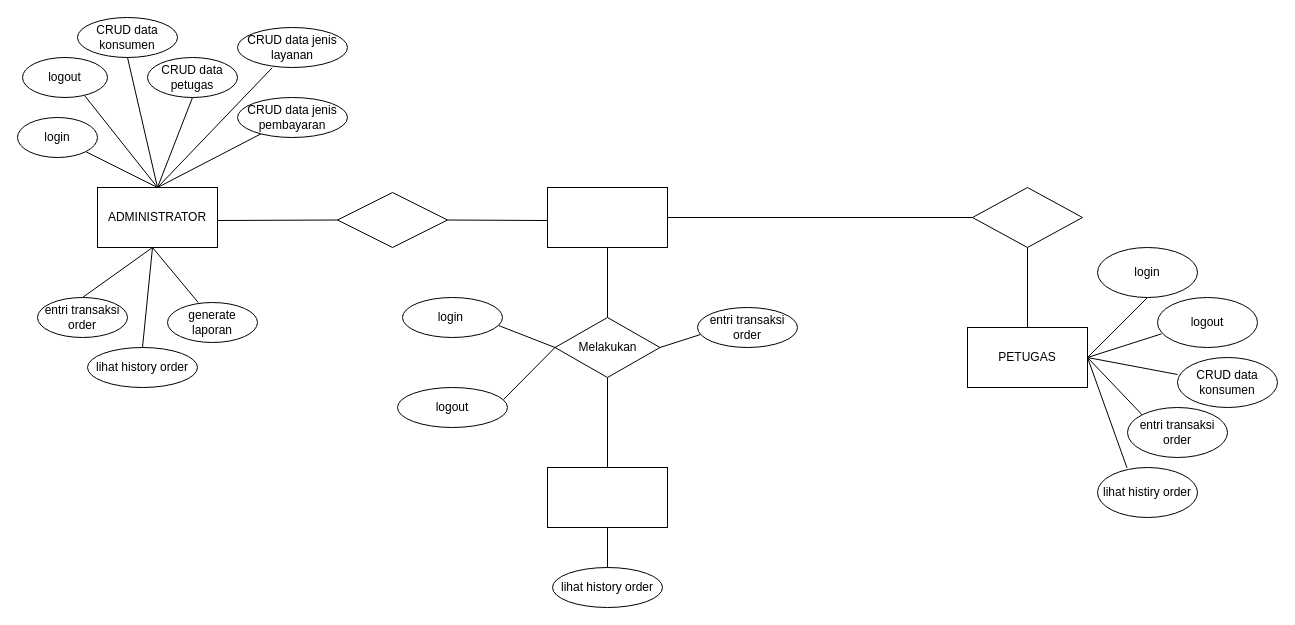
This 1295x625 diagram has some shape labels left out. Each missing label, with the box of its shape:
KONSUMEN: (546, 466, 668, 528)
Memiliki tugas: (972, 186, 1082, 248)
Mengelola: (336, 192, 448, 248)
PIMPINAN: (546, 186, 668, 248)
